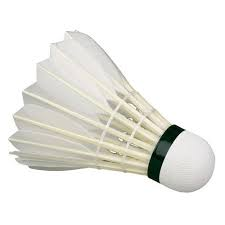shuttle: (7, 19, 209, 195)
